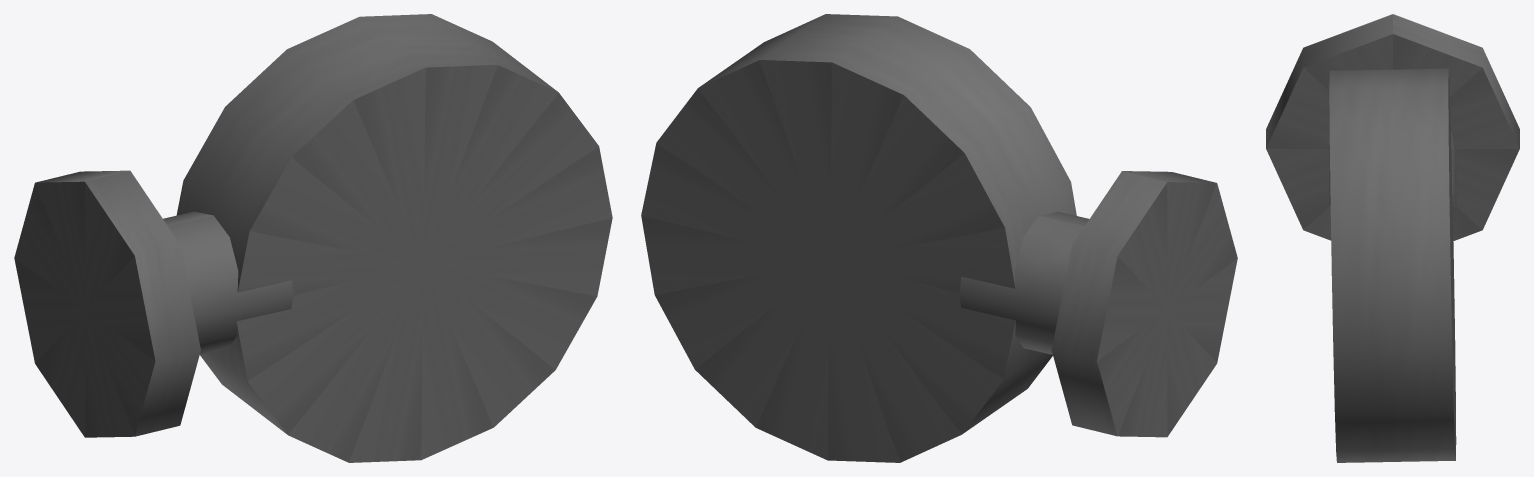
Rendered from mastarmcurve_10x2_c11_west.obj.
3 renders of one model, left to right at view 1: azimuth 30°, elevation 25°; view 2: azimuth 150°, elevation 25°; view 3: azimuth 270°, elevation 25°, orthographic. The views are drawn at different scales.
Parts seen in each view (by area): view 1: mastarm_10x2_c11_west; view 2: mastarm_10x2_c11_west; view 3: mastarm_10x2_c11_west.
Part boxes in pixels (bbox=[...]): mastarm_10x2_c11_west: bbox=[14, 14, 612, 462]; mastarm_10x2_c11_west: bbox=[641, 14, 1237, 462]; mastarm_10x2_c11_west: bbox=[1266, 14, 1519, 462].
Size of the model in its own units: 0.8088 by 0.6224 by 0.4.
